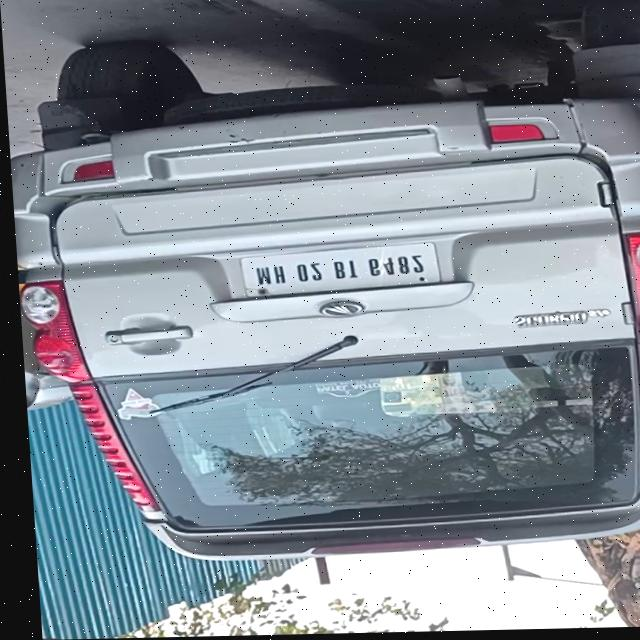plate: (233, 244, 438, 300)
